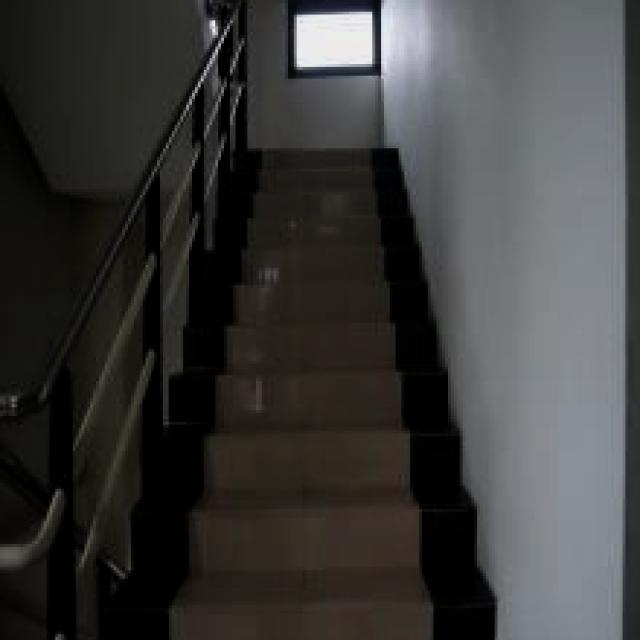upstair: (205, 147, 437, 638)
